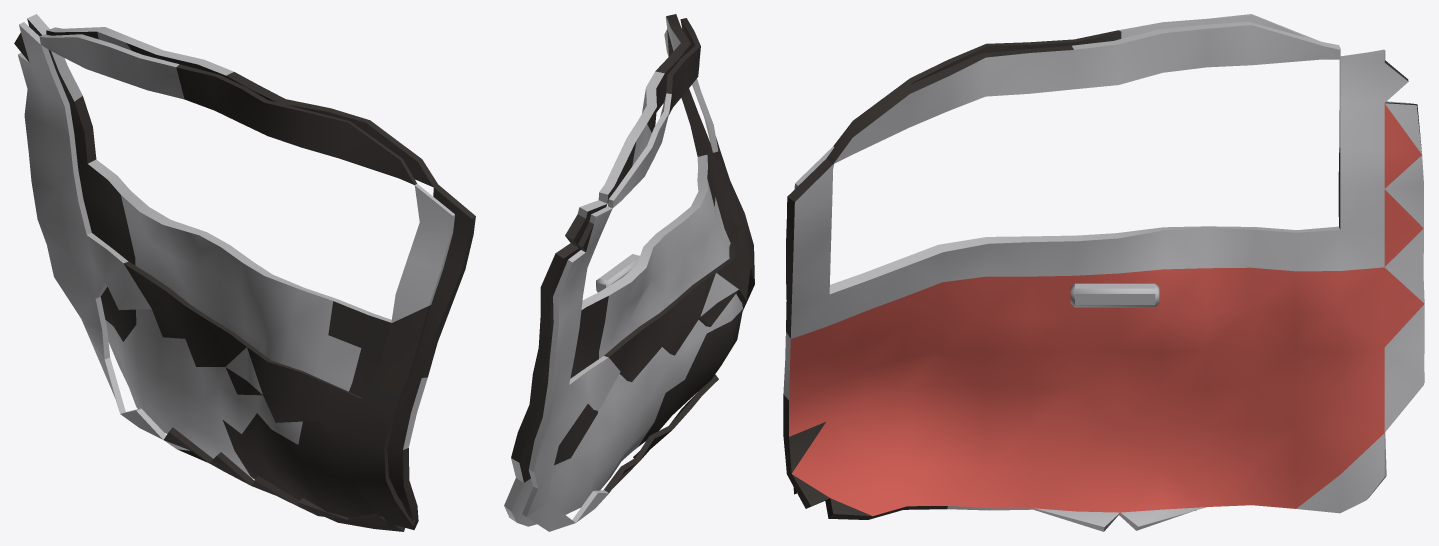
Rendered from Debris_Door.fbx.
The picture shows the model from 3 angles, left to right: view 1: azimuth 30°, elevation 25°; view 2: azimuth 150°, elevation 25°; view 3: azimuth 270°, elevation 25°; orthographic projection. The views are drawn at different scales.
Visible parts, largest first — view 1: Debris_Door; view 2: Debris_Door; view 3: Debris_Door.
Part boxes in pixels (bbox=[...]): Debris_Door: bbox=[14, 14, 475, 531]; Debris_Door: bbox=[504, 14, 754, 531]; Debris_Door: bbox=[783, 14, 1424, 531].
Size of the model in its own units: 0.3622 by 0.7602 by 0.9403.
